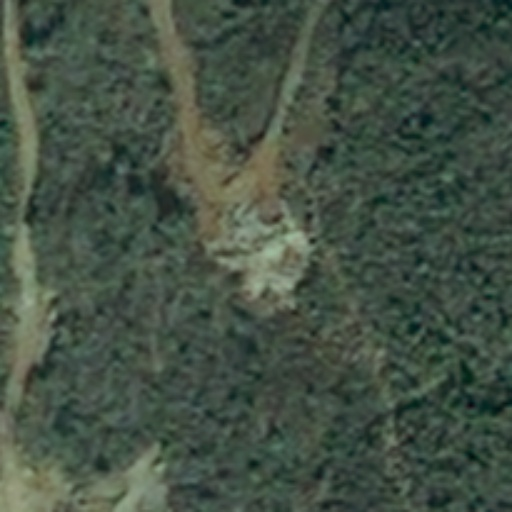landslide: (182, 161, 326, 306)
